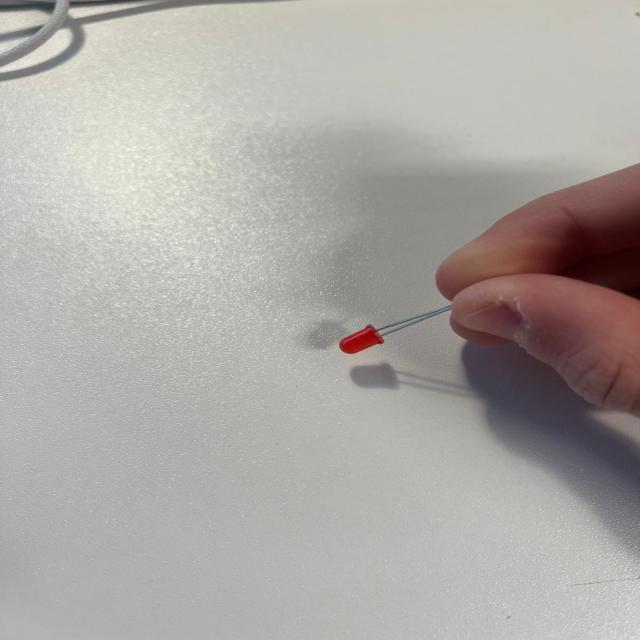REDLed: (302, 287, 450, 371)
